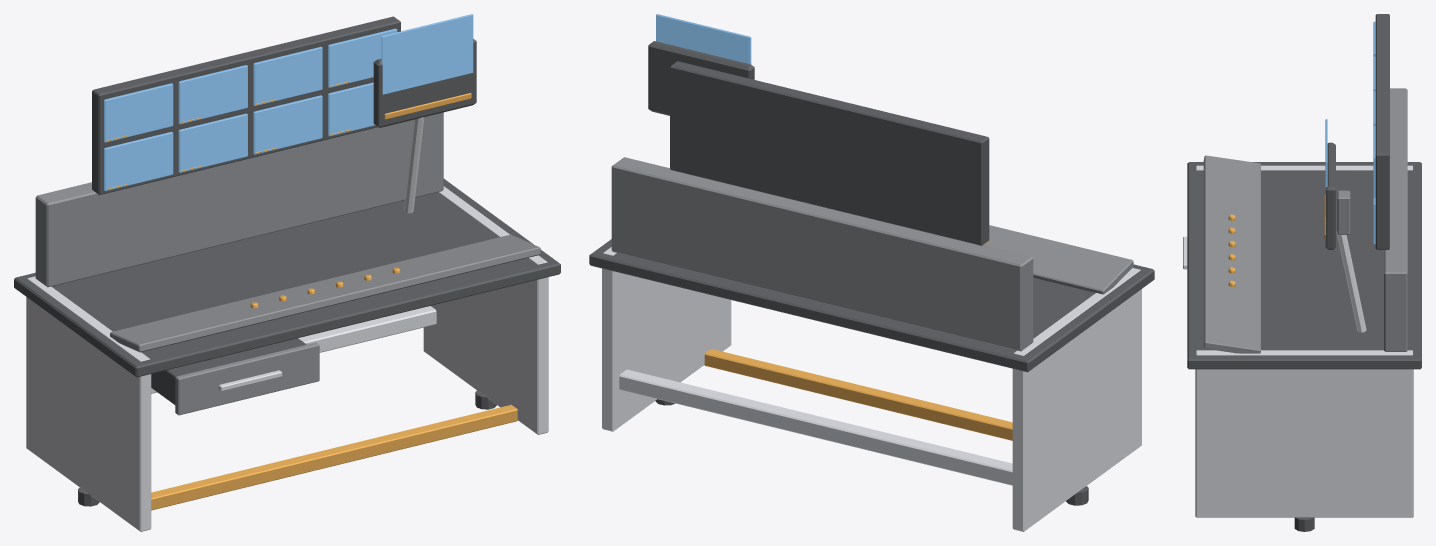
The model's file is 35513_Gallery_Desk_Run_with_Monitor_Stacks__TV_Studio_and_Broadcast_Gallery_.glb.
3 renders of one model, left to right at view 1: azimuth 30°, elevation 25°; view 2: azimuth 150°, elevation 25°; view 3: azimuth 270°, elevation 25°, orthographic. The views are drawn at different scales.
Visible parts, largest first — view 1: gallery-desk-run, monitor-arm/screen, drawer/gear, monitor-arm/dark, drawer/dark; view 2: gallery-desk-run, monitor-arm/dark, monitor-arm/screen; view 3: gallery-desk-run, monitor-arm/dark, monitor-arm/gear.
Boxes of the visible parts, left/top/right/bottom form: gallery-desk-run: left=14, top=16, right=560, bottom=531; monitor-arm/screen: left=381, top=14, right=473, bottom=94; drawer/gear: left=175, top=342, right=319, bottom=415; monitor-arm/dark: left=373, top=39, right=476, bottom=127; drawer/dark: left=151, top=338, right=306, bottom=404; gallery-desk-run: left=589, top=61, right=1154, bottom=531; monitor-arm/dark: left=648, top=41, right=754, bottom=115; monitor-arm/screen: left=656, top=14, right=751, bottom=64; gallery-desk-run: left=1187, top=14, right=1421, bottom=531; monitor-arm/dark: left=1325, top=142, right=1335, bottom=249; monitor-arm/gear: left=1337, top=190, right=1350, bottom=234.
Bounding box in the file's own units: 1.8 × 1.55 × 0.9171.
